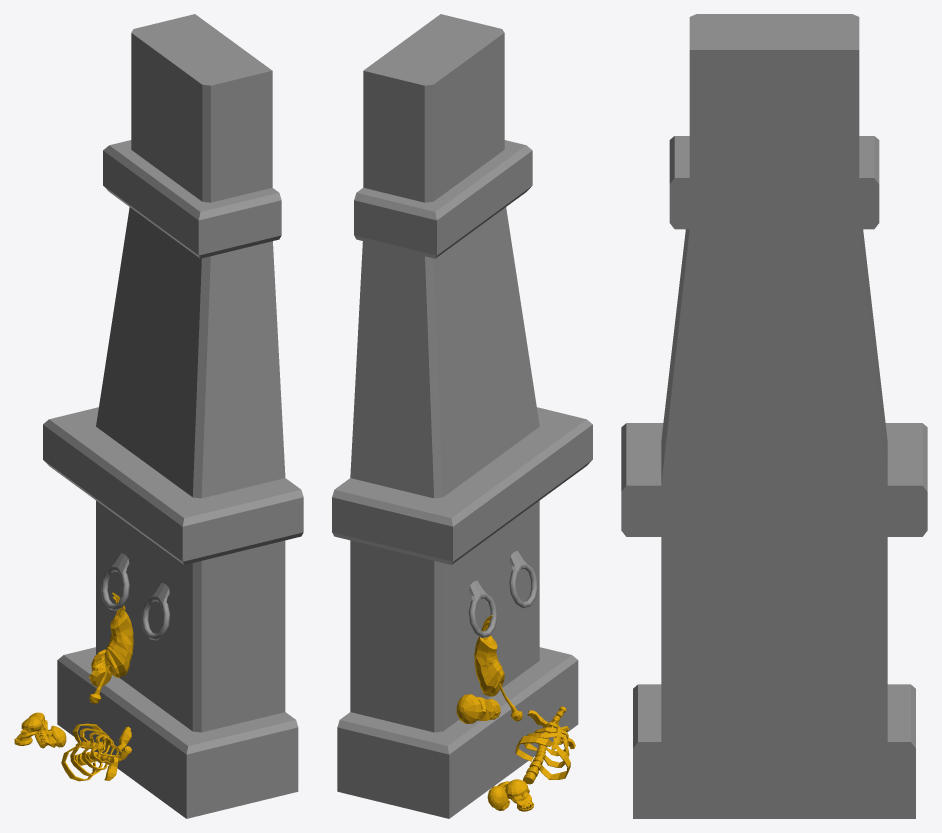
The model's file is column_compo_1.FBX.
3 views of the same model, side by side, from view 1: azimuth 30°, elevation 25°; view 2: azimuth 150°, elevation 25°; view 3: azimuth 270°, elevation 25° (orthographic). The views are drawn at different scales.
Parts seen in each view (by area): view 1: Column, chest001, arm, Torus002, Torus001, head002; view 2: Column, chest001, arm, head, Torus002, Torus001, head003; view 3: Column.
Part boxes in pixels (x1,y1,x2,y2): Column: [43, 14, 303, 818]; chest001: [61, 723, 131, 781]; arm: [89, 592, 133, 704]; Torus002: [141, 583, 170, 640]; Torus001: [101, 553, 129, 610]; head002: [34, 725, 66, 748]; Column: [332, 14, 592, 818]; chest001: [515, 706, 575, 784]; arm: [474, 615, 522, 721]; head: [456, 694, 500, 723]; Torus002: [509, 550, 537, 608]; Torus001: [468, 580, 497, 637]; head003: [505, 779, 533, 811]; Column: [621, 14, 927, 818].
Bounding box in the file's own units: 78.21 × 300 × 108.
